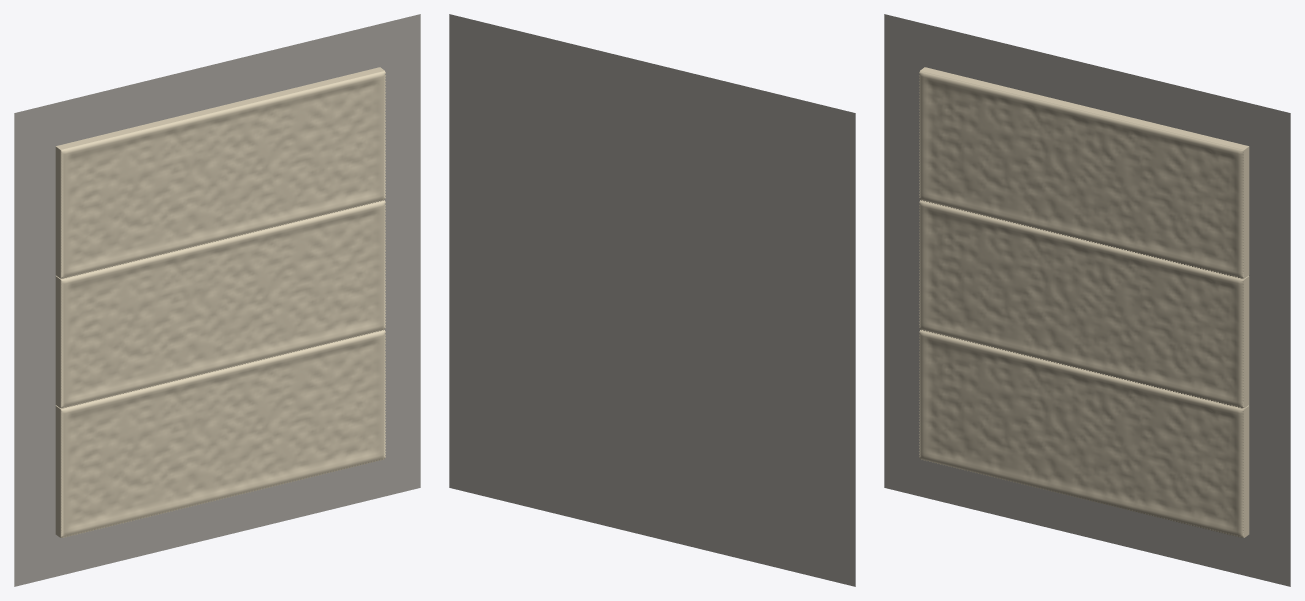
The model's file is terilgan.glb.
3 renders of one model, left to right at view 1: azimuth 30°, elevation 25°; view 2: azimuth 150°, elevation 25°; view 3: azimuth 330°, elevation 25°, orthographic.
Visible parts, largest first — view 1: Plane, t2_0, t1_0, t0_0; view 2: Plane; view 3: Plane, t2_0, t0_0, t1_0.
Boxes of the visible parts, box(x1,y1,x2,y2) form: Plane: box(14, 14, 420, 586); t2_0: box(55, 67, 385, 278); t1_0: box(55, 200, 385, 408); t0_0: box(55, 330, 385, 537); Plane: box(449, 14, 855, 586); Plane: box(884, 14, 1290, 586); t2_0: box(919, 67, 1249, 278); t0_0: box(919, 330, 1249, 537); t1_0: box(919, 200, 1249, 408).
Bounding box in the file's own units: 1.5 × 1.67 × 0.0418.
